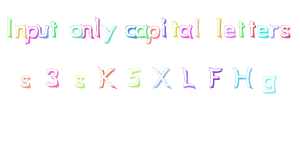3: (42, 62, 65, 92)
5: (124, 62, 147, 93)
F: (204, 62, 227, 93)
H: (228, 62, 258, 93)
I: (4, 14, 19, 42)
K: (95, 62, 123, 93)
L: (176, 62, 203, 93)
X: (148, 62, 176, 92)
a: (177, 19, 194, 42), (134, 19, 150, 40)
c: (123, 18, 138, 40)
e: (223, 21, 238, 40), (256, 21, 270, 41)
g: (259, 70, 282, 99)
i: (160, 15, 171, 40)
l: (92, 10, 104, 42), (213, 13, 225, 41), (193, 14, 205, 40)
n: (79, 19, 95, 43), (14, 22, 29, 41)
o: (68, 21, 84, 43)
p: (24, 22, 42, 49), (146, 19, 161, 49)
r: (268, 18, 280, 42)
s: (15, 67, 38, 92), (69, 66, 89, 93), (279, 16, 294, 41)
t: (169, 14, 180, 45), (246, 14, 258, 41), (49, 15, 61, 41), (236, 14, 247, 42)
u: (34, 20, 50, 42)
y: (101, 22, 119, 46)
